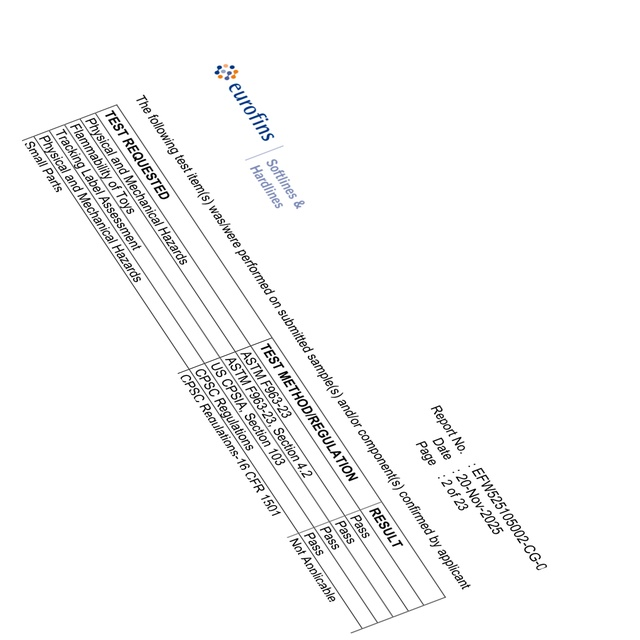eurofins: (203, 57, 278, 144)
